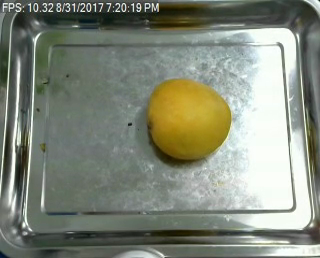Mango: (147, 75, 231, 157)
